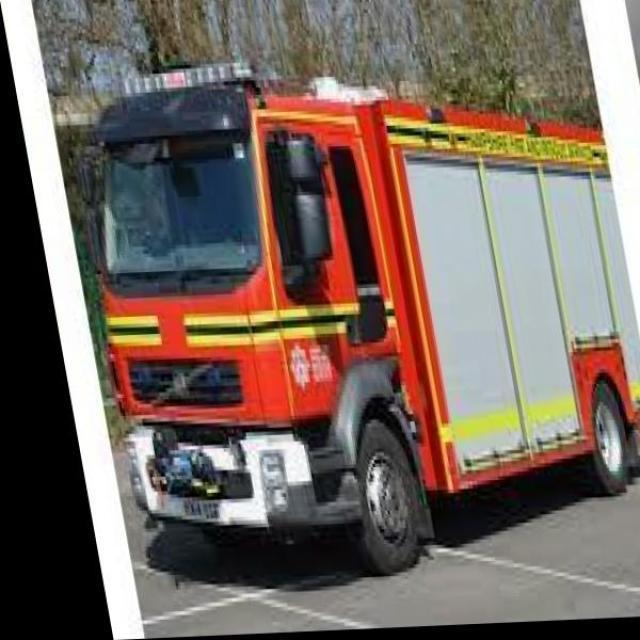emergency: (80, 57, 640, 575)
